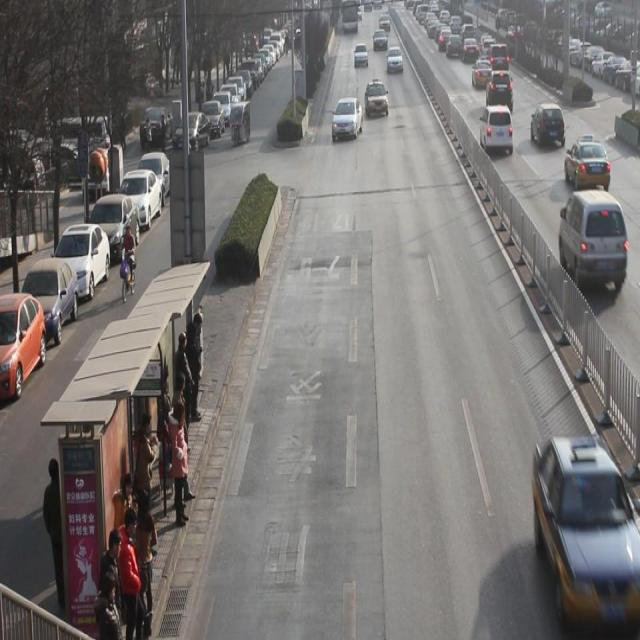car: (532, 440, 640, 609), (564, 134, 611, 192), (479, 105, 514, 158), (530, 104, 566, 151), (331, 98, 363, 140), (486, 70, 513, 110), (364, 78, 389, 119), (472, 58, 494, 88), (489, 43, 509, 70), (460, 38, 480, 64), (387, 48, 402, 74), (509, 18, 526, 38), (354, 43, 368, 67), (446, 35, 461, 56), (373, 30, 387, 51), (439, 27, 451, 50), (480, 37, 495, 55), (481, 27, 493, 46)
truck: (558, 191, 628, 297)
